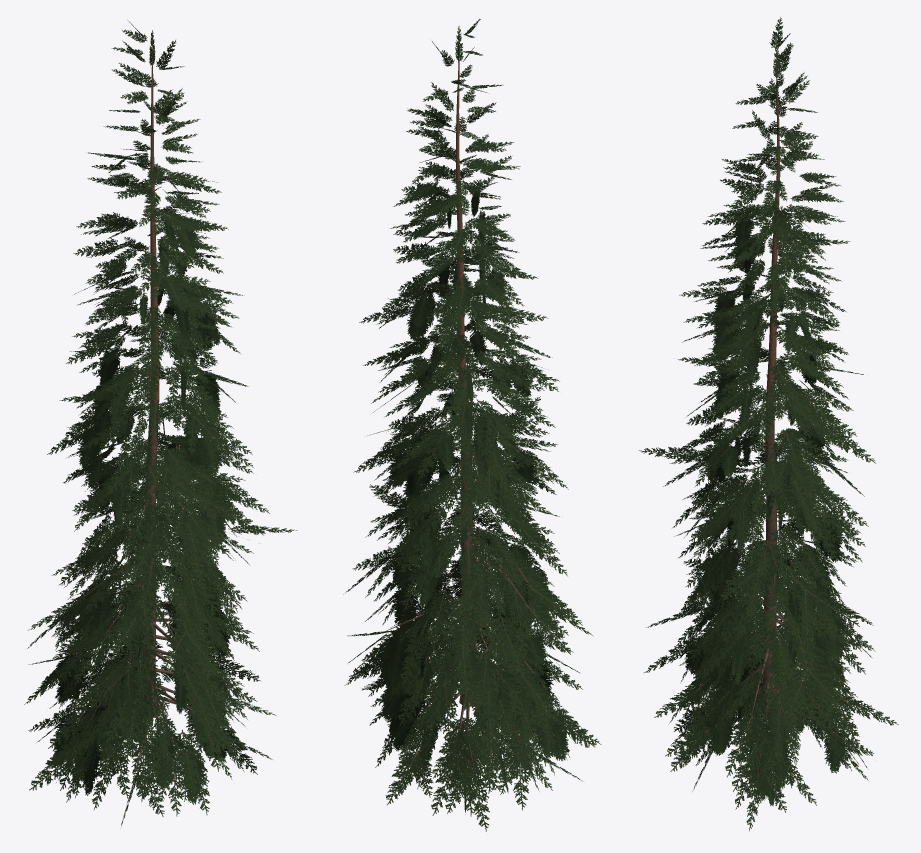
File: spruce_a_LOD1.glb
The picture shows the model from 3 angles, left to right: view 1: azimuth 30°, elevation 25°; view 2: azimuth 150°, elevation 25°; view 3: azimuth 270°, elevation 25°; orthographic projection.
Visible parts, largest first — view 1: Spruce_A_LOD1_Foliage, Spruce_A_LOD1_Bark; view 2: Spruce_A_LOD1_Foliage, Spruce_A_LOD1_Bark; view 3: Spruce_A_LOD1_Foliage, Spruce_A_LOD1_Bark.
Part boxes in pixels (left/top/right/bottom): Spruce_A_LOD1_Foliage: left=24, top=21, right=297, bottom=825; Spruce_A_LOD1_Bark: left=58, top=30, right=237, bottom=781; Spruce_A_LOD1_Foliage: left=343, top=19, right=601, bottom=831; Spruce_A_LOD1_Bark: left=382, top=26, right=557, bottom=783; Spruce_A_LOD1_Foliage: left=639, top=17, right=898, bottom=831; Spruce_A_LOD1_Bark: left=688, top=44, right=850, bottom=780.
Bounding box in the file's own units: 10.45 × 30.19 × 9.59.
2 materials, 2 textured.
